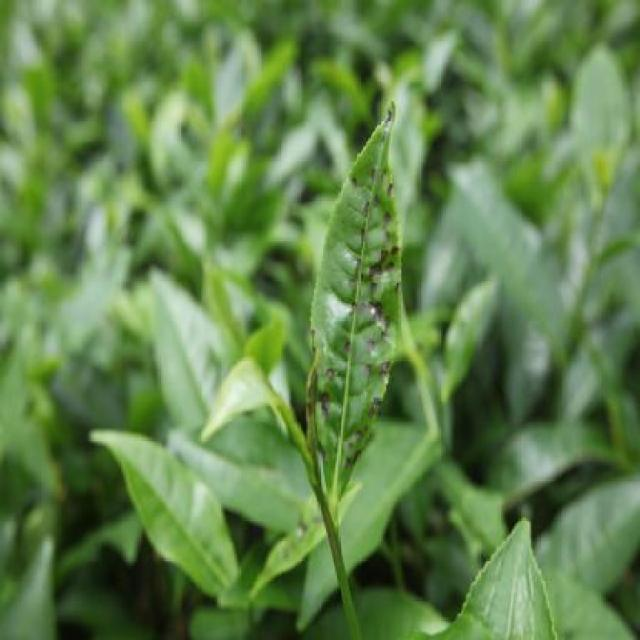Tea Mosquito bug infested leaf: (310, 98, 404, 470)
